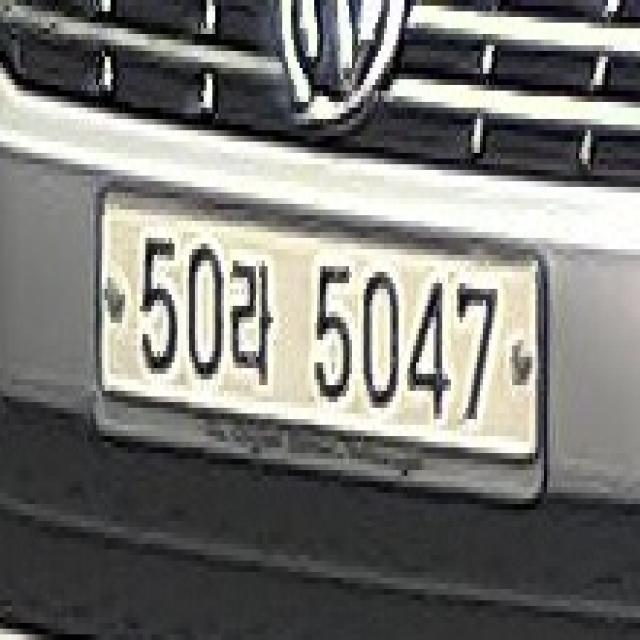0: (186, 226, 226, 385), (362, 264, 402, 418)
4: (406, 268, 452, 431)
5: (134, 222, 182, 384), (309, 257, 359, 407)
7: (455, 274, 503, 428)
la: (230, 249, 275, 401)
license_plate: (77, 159, 559, 518)
